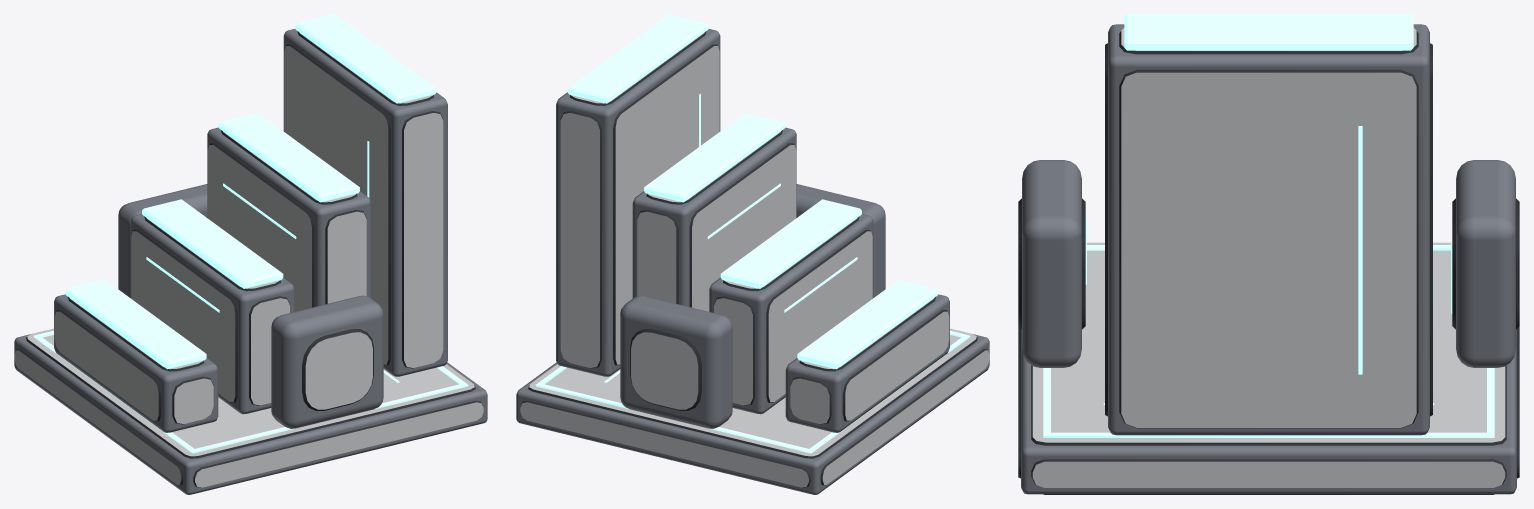
The model's file is R4X_ModuleAmplifier.fbx.
3 renders of one model, left to right at view 1: azimuth 30°, elevation 25°; view 2: azimuth 150°, elevation 25°; view 3: azimuth 270°, elevation 25°, orthographic. The views are drawn at different scales.
Visible parts, largest first — view 1: R4X_ModuleAmplifier_Body; view 2: R4X_ModuleAmplifier_Body; view 3: R4X_ModuleAmplifier_Body.
Part boxes in pixels (x1=…): R4X_ModuleAmplifier_Body: x1=14, y1=14, x2=487, y2=494; R4X_ModuleAmplifier_Body: x1=516, y1=14, x2=989, y2=494; R4X_ModuleAmplifier_Body: x1=1018, y1=14, x2=1519, y2=494.
Bounding box in the file's own units: 0.52 × 0.512 × 0.52.
